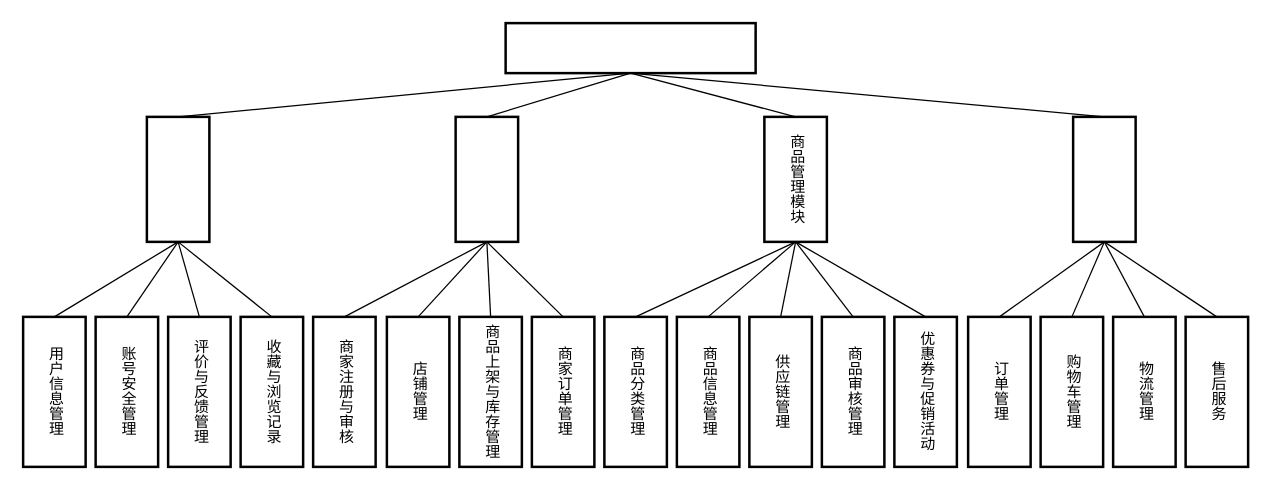
Image size: 1270x489. Some labels were removed from this diagram. The shapes that lost their labels are listed below. From the top down, each one's box as (x1, y1, x2, y2) in pixels, then its label:
(504, 21, 756, 74): 基于Spring Boot的电子商城
(145, 115, 210, 242): 用户管理模块
(454, 115, 519, 242): 商家管理模块
(1071, 115, 1136, 242): 订单与交易模块
